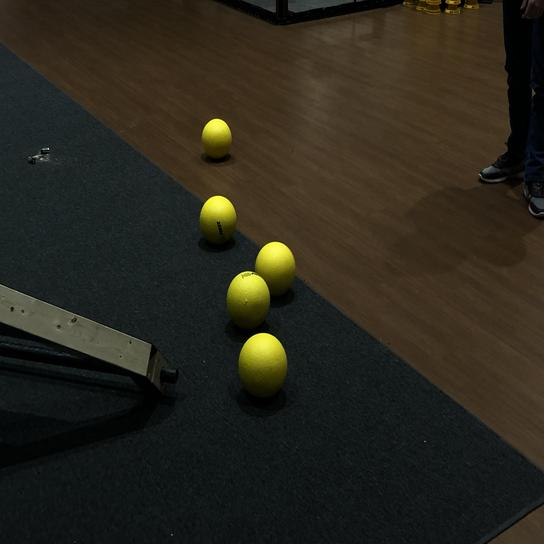ball: (235, 330, 290, 402), (222, 268, 272, 328), (254, 239, 297, 297), (197, 195, 242, 247), (197, 115, 235, 159)
